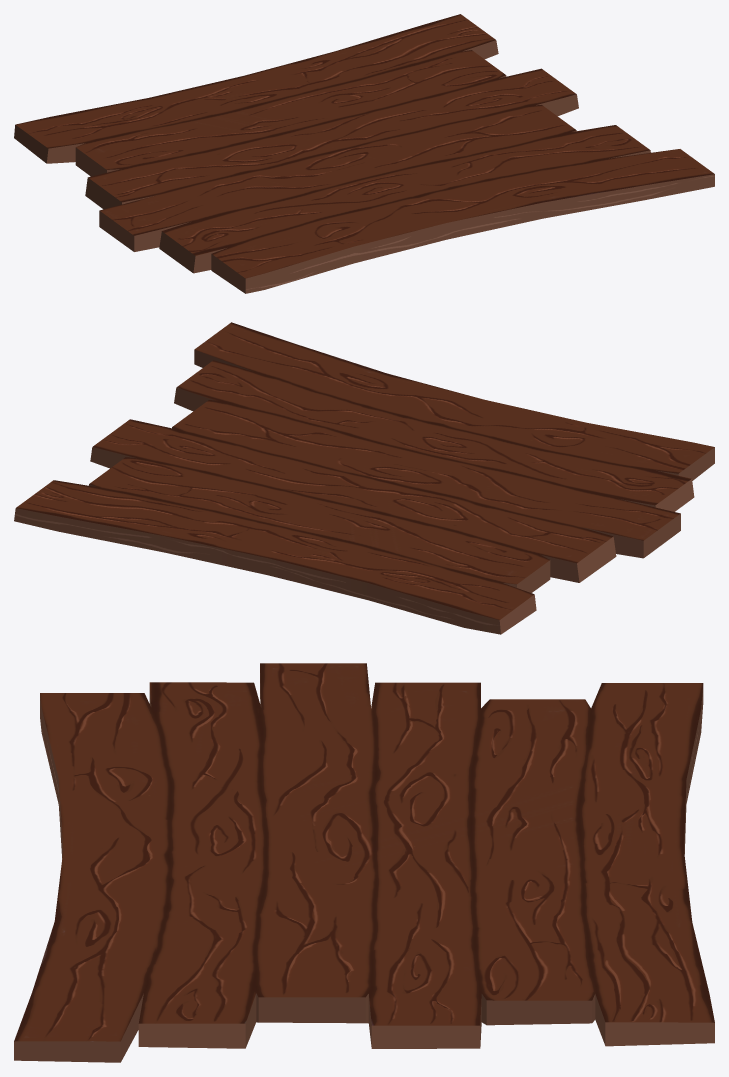
The model's file is lvl3_table_mesh.FBX.
3 views of the same model, one above another, from view 1: azimuth 30°, elevation 25°; view 2: azimuth 150°, elevation 25°; view 3: azimuth 270°, elevation 25° (orthographic). The views are drawn at different scales.
Parts seen in each view (by area): view 1: table_lowpoly; view 2: table_lowpoly; view 3: table_lowpoly.
Boxes of the visible parts, x1,y1,x2,y2 form: table_lowpoly: (14, 14, 714, 293); table_lowpoly: (14, 322, 714, 634); table_lowpoly: (14, 663, 714, 1062).
Size of the model in its own units: 2949 by 121 by 2327.
